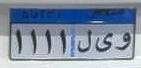1: (14, 28, 23, 55), (44, 28, 53, 53), (58, 29, 67, 53), (30, 28, 38, 54)
laam: (77, 28, 93, 54)
waw: (115, 31, 131, 53)
yaa: (94, 31, 114, 54)
